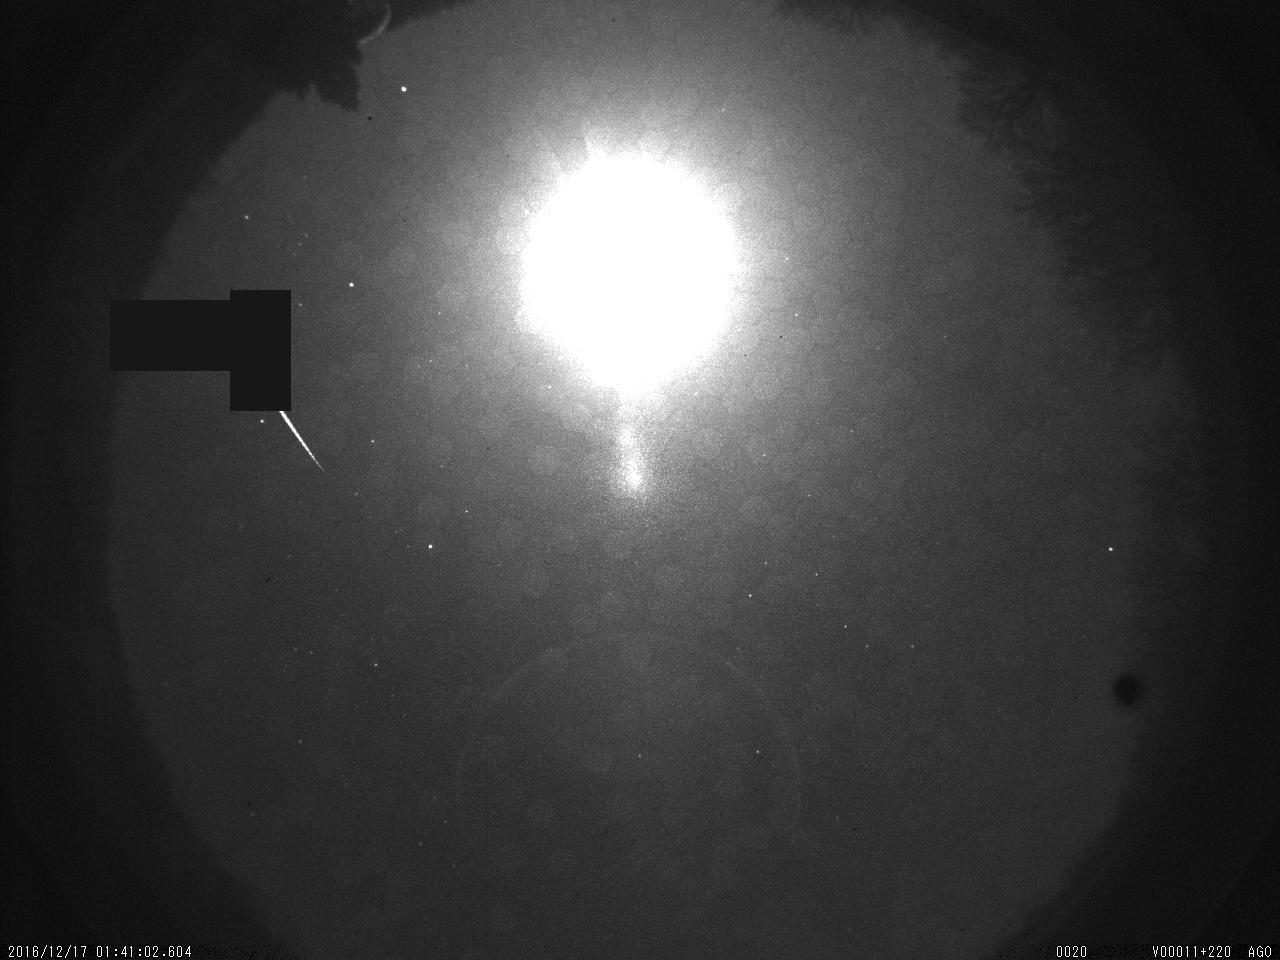Meteor: (272, 396, 331, 480)
